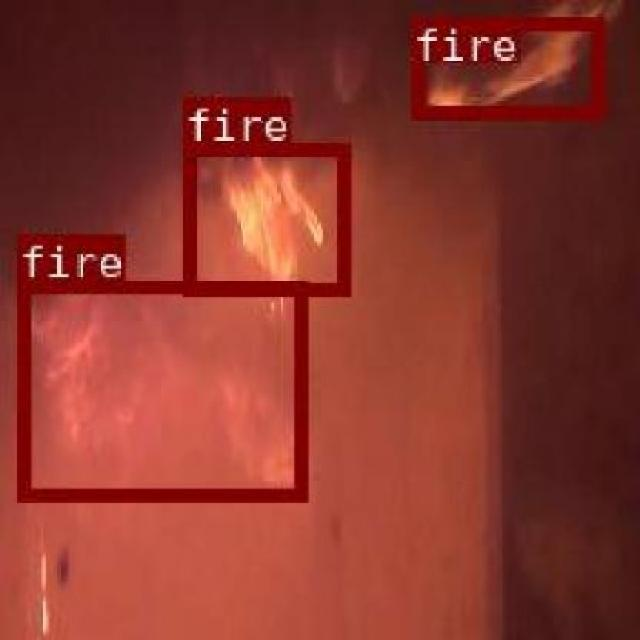Fire: (17, 279, 306, 498), (182, 141, 350, 294), (409, 15, 600, 116)
